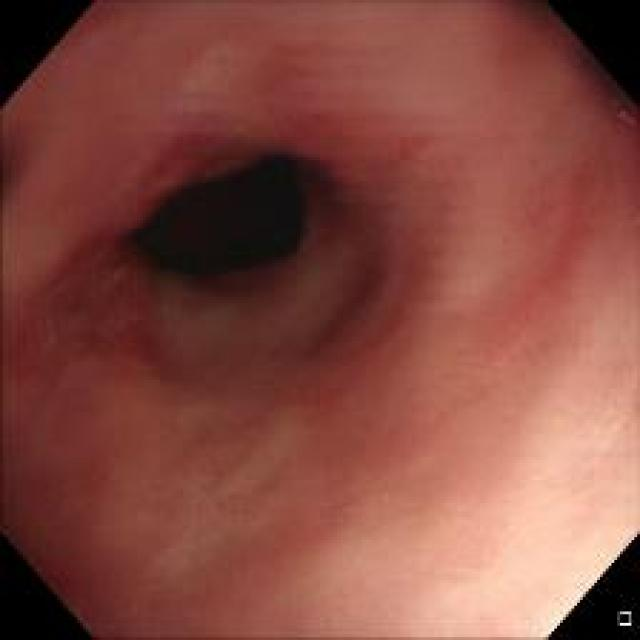color misalignment: (612, 98, 634, 126)
contrast: (124, 149, 319, 282)
